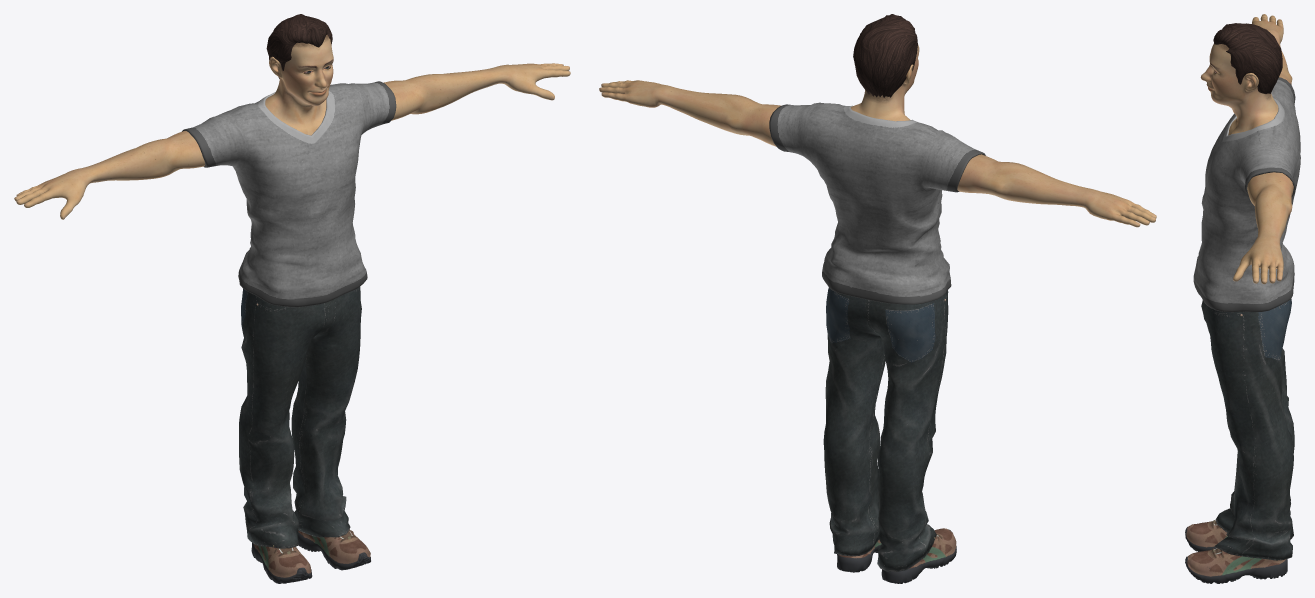
Rendered from New Eathan.obj.
3 renders of one model, left to right at view 1: azimuth 30°, elevation 25°; view 2: azimuth 150°, elevation 25°; view 3: azimuth 270°, elevation 25°, orthographic.
Parts seen in each view (by area): view 1: Tops, Bottoms, Body, Shoes, Hair; view 2: Bottoms, Tops, Body, Hair, Shoes; view 3: Bottoms, Tops, Body, Shoes, Hair.
Part boxes in pixels (bbox=[...]): Tops: bbox=[182, 81, 396, 307]; Bottoms: bbox=[239, 286, 361, 548]; Body: bbox=[14, 34, 570, 219]; Shoes: bbox=[251, 529, 370, 583]; Hair: bbox=[266, 14, 332, 78]; Bottoms: bbox=[823, 288, 948, 571]; Tops: bbox=[769, 102, 985, 304]; Body: bbox=[599, 44, 1156, 227]; Hair: bbox=[853, 14, 917, 97]; Shoes: bbox=[837, 528, 956, 583]; Bottoms: bbox=[1201, 299, 1294, 560]; Tops: bbox=[1193, 77, 1300, 312]; Body: bbox=[1200, 14, 1293, 284]; Shoes: bbox=[1185, 520, 1287, 583]; Hair: bbox=[1213, 23, 1282, 93].
Size of the model in its own units: 194 by 181 by 35.54.
5 materials, 5 textured.
